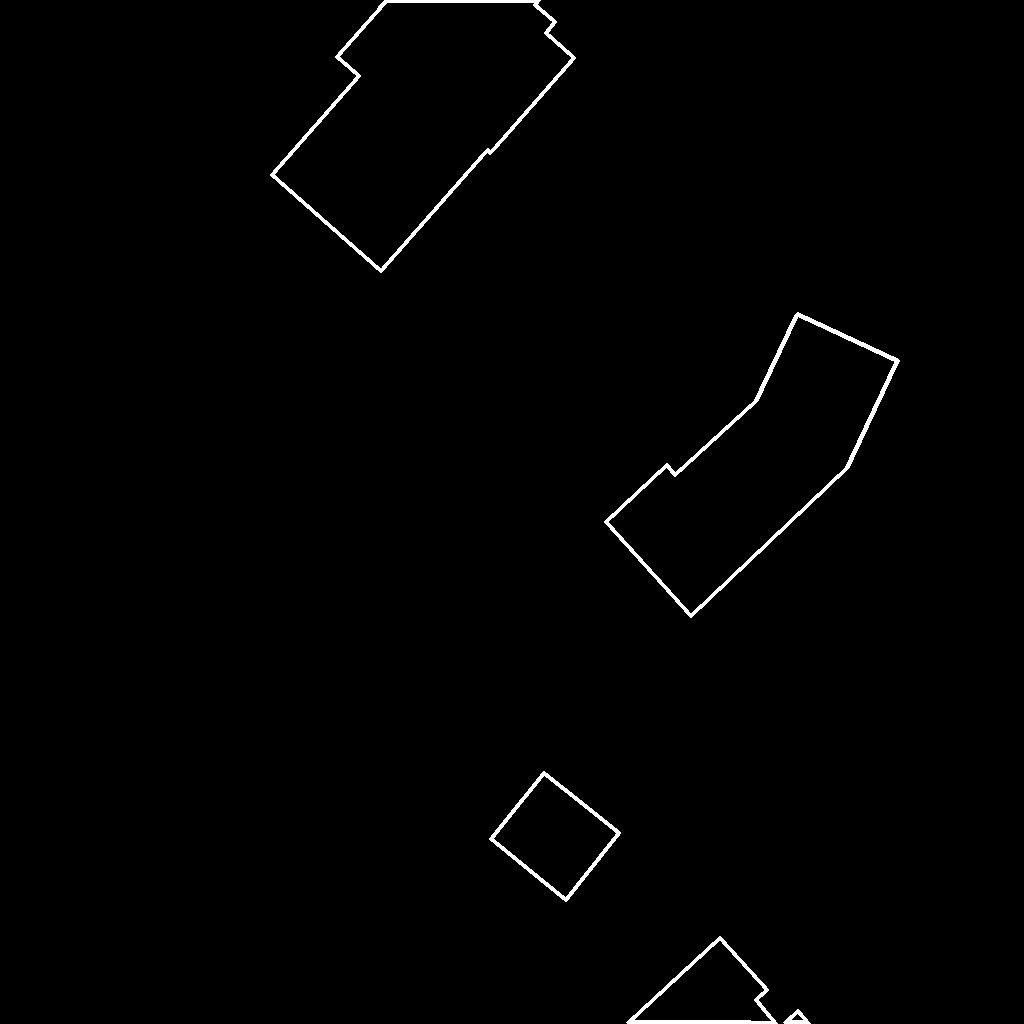building: (606, 314, 899, 617), (272, 0, 575, 272), (491, 773, 620, 901), (628, 938, 810, 1024)
